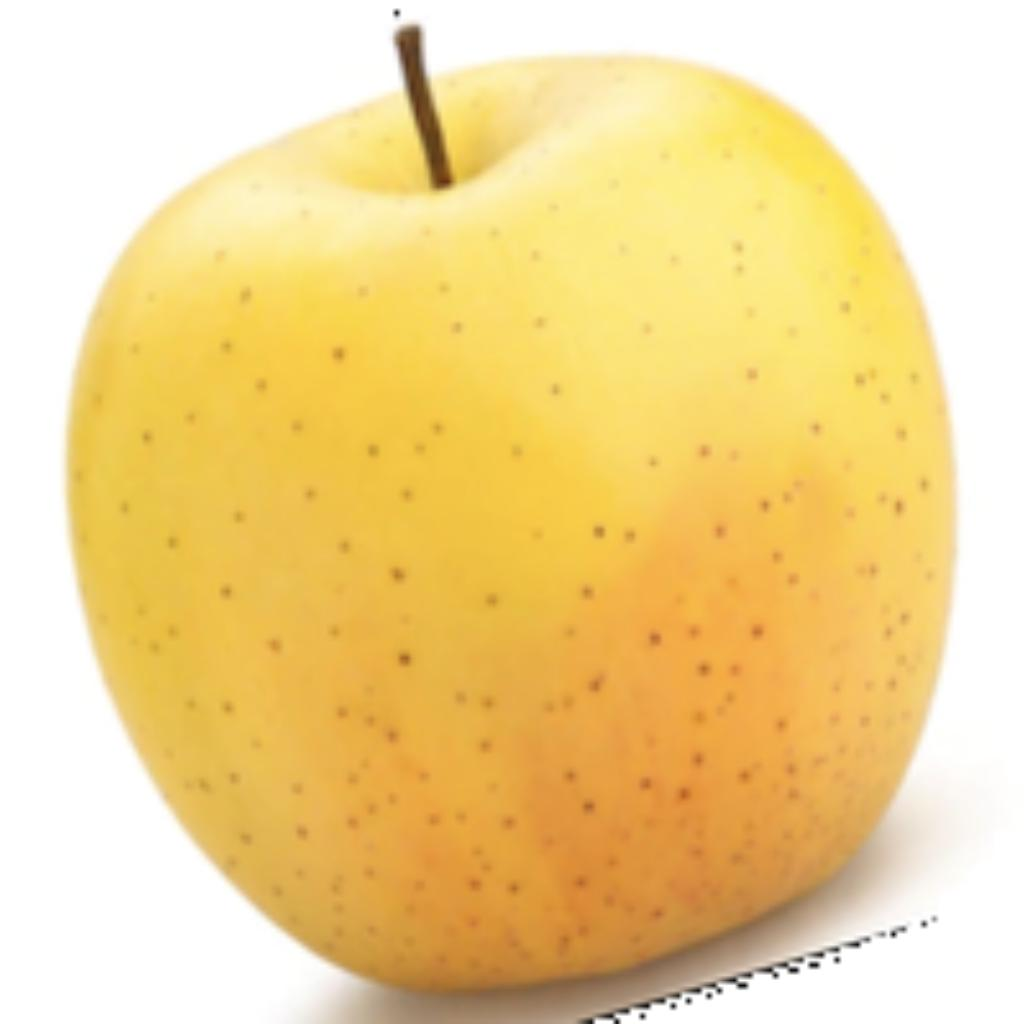apple: (56, 5, 963, 1019)
